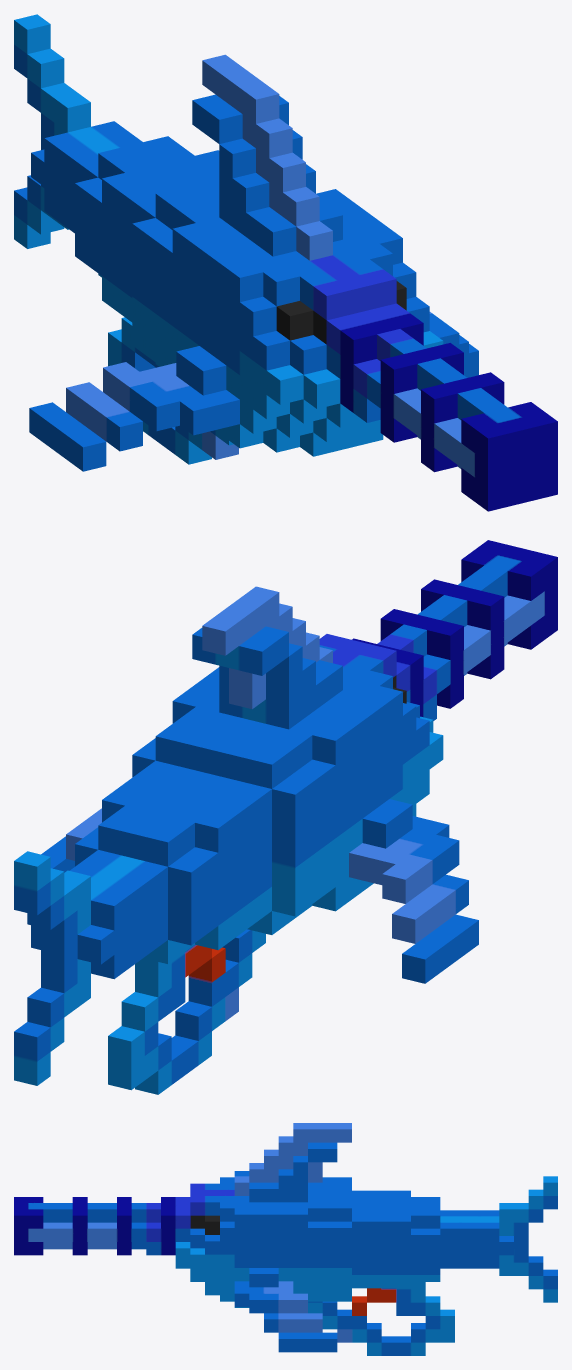
File: MiniShark.fbx
The picture shows the model from 3 angles, top to bottom: view 1: azimuth 30°, elevation 25°; view 2: azimuth 150°, elevation 25°; view 3: azimuth 270°, elevation 25°; orthographic projection. The views are drawn at different scales.
Parts seen in each view (by area): view 1: MiniShark; view 2: MiniShark; view 3: MiniShark.
Boxes of the visible parts, bbox=[...] form: MiniShark: bbox=[14, 14, 557, 511]; MiniShark: bbox=[14, 540, 557, 1094]; MiniShark: bbox=[14, 1123, 557, 1355].
Bounding box in the file's own units: 17 × 17 × 37.
